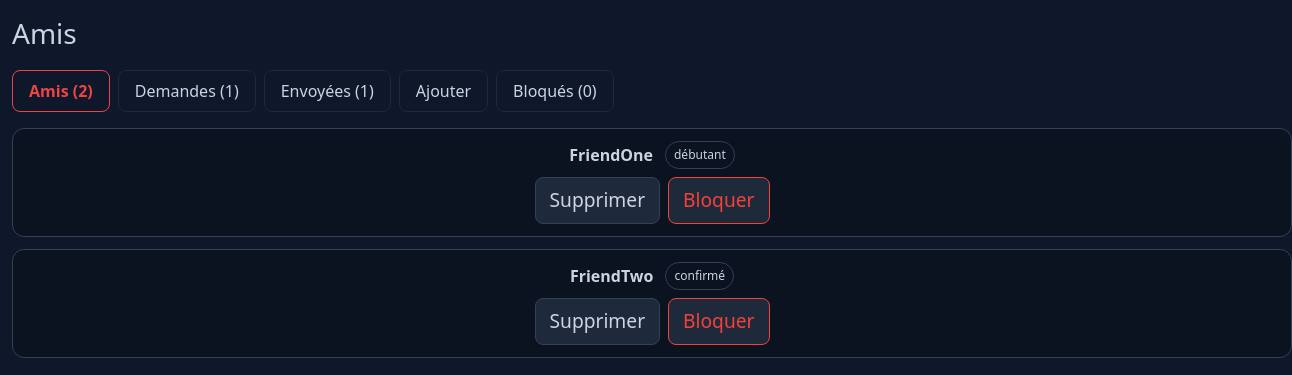
Scenario: FriendsPage › renders add tab
Click the button with class "tab" showing "Ajouter": x=443, y=91 [399,70,488,112]
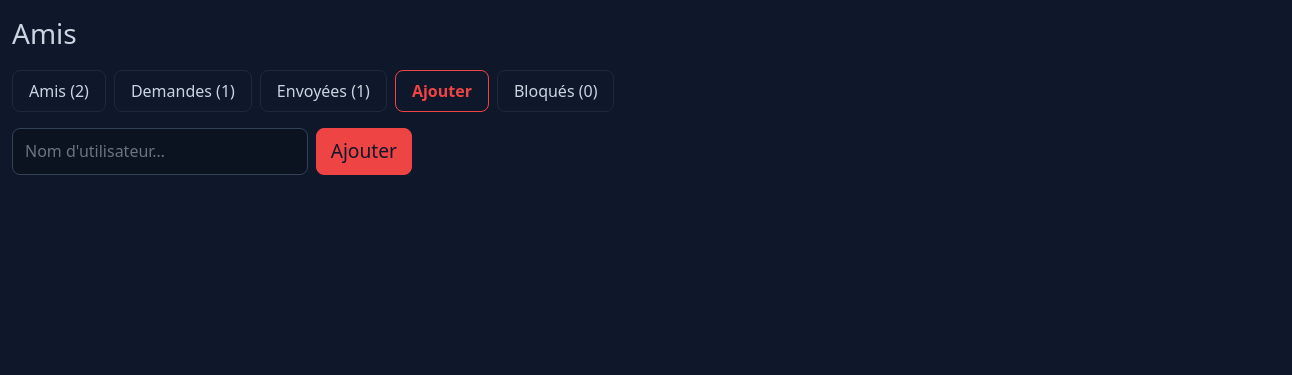
Expected: the field with placeholder "Nom d'utilisateur…" is shown, [12,128,308,175]
Expected: the form is shown, [12,128,412,175]
